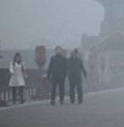person: (47, 45, 69, 107), (7, 52, 28, 106), (67, 50, 87, 106)
